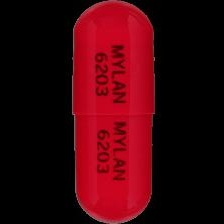0378-6203: (0, 0, 224, 224)
